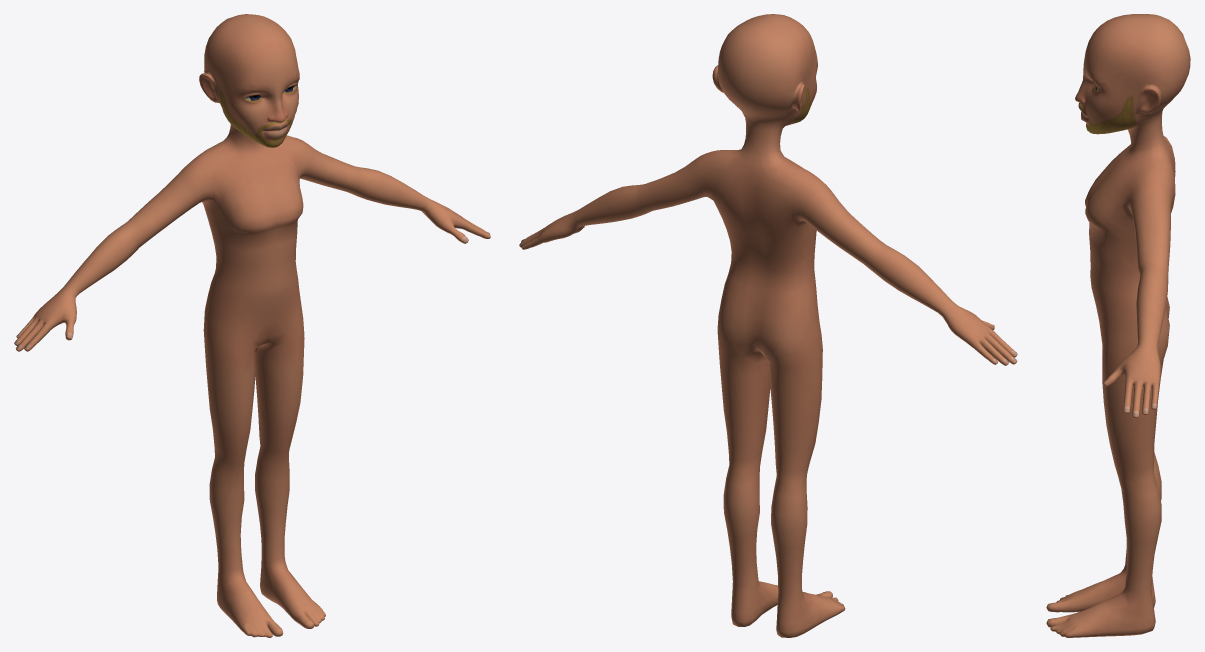
The model's file is frame_0052.glb.
3 renders of one model, left to right at view 1: azimuth 30°, elevation 25°; view 2: azimuth 150°, elevation 25°; view 3: azimuth 270°, elevation 25°, orthographic. The views are drawn at different scales.
Parts seen in each view (by area): view 1: frame_0052_head_geo; view 2: frame_0052_head_geo; view 3: frame_0052_head_geo.
Part boxes in pixels (bbox=[...]): frame_0052_head_geo: bbox=[14, 14, 490, 637]; frame_0052_head_geo: bbox=[519, 14, 1017, 637]; frame_0052_head_geo: bbox=[1046, 14, 1190, 637].
Size of the model in its own units: 1.28 by 1.5 by 0.3253.
3 materials, 3 textured.
